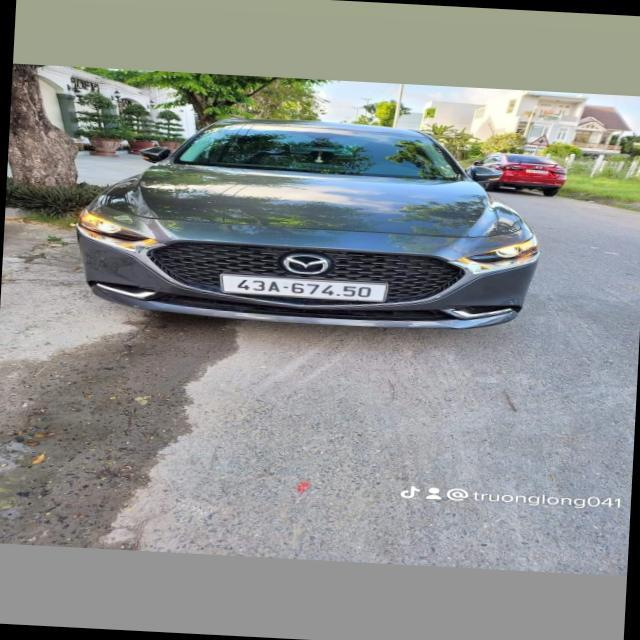car: (79, 113, 547, 338), (467, 145, 573, 199)
plate: (216, 271, 395, 311)
